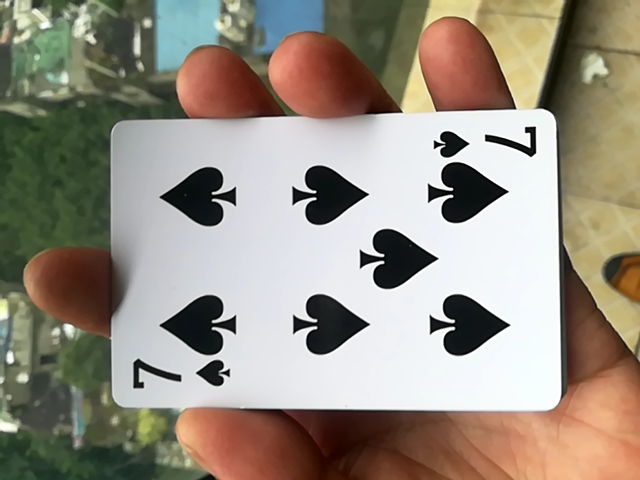ht 7: (89, 110, 560, 432)
